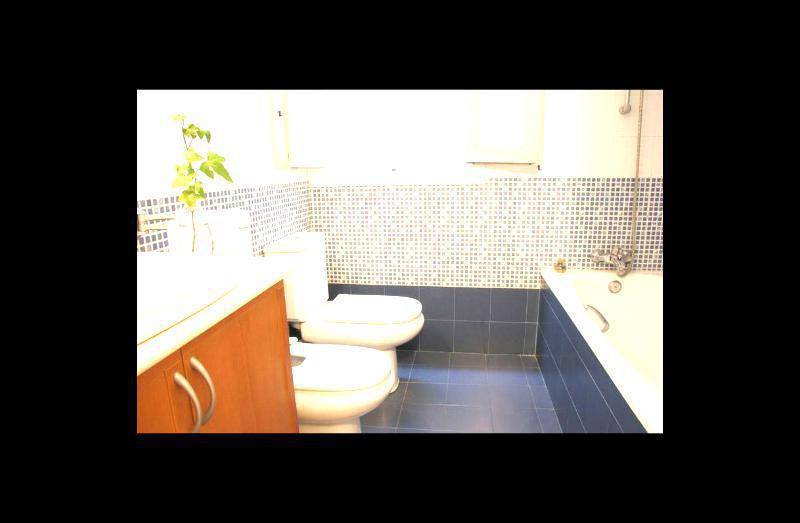Sanitario: (275, 236, 431, 353), (286, 332, 394, 428)
